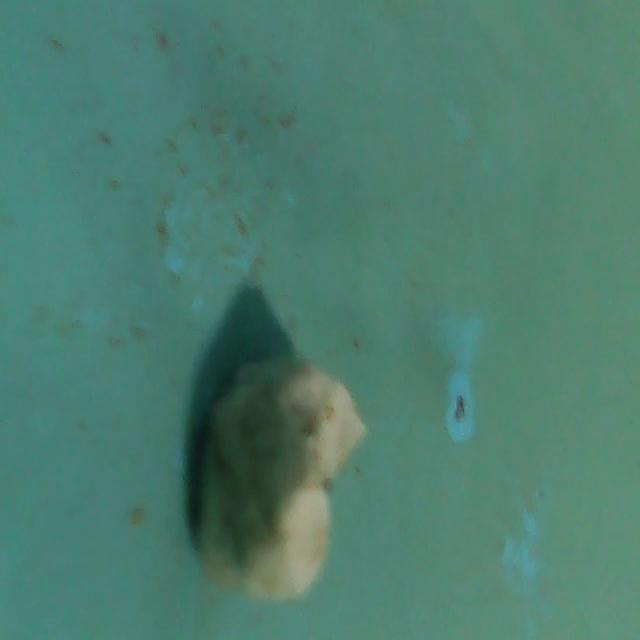rock: (180, 353, 370, 607)
